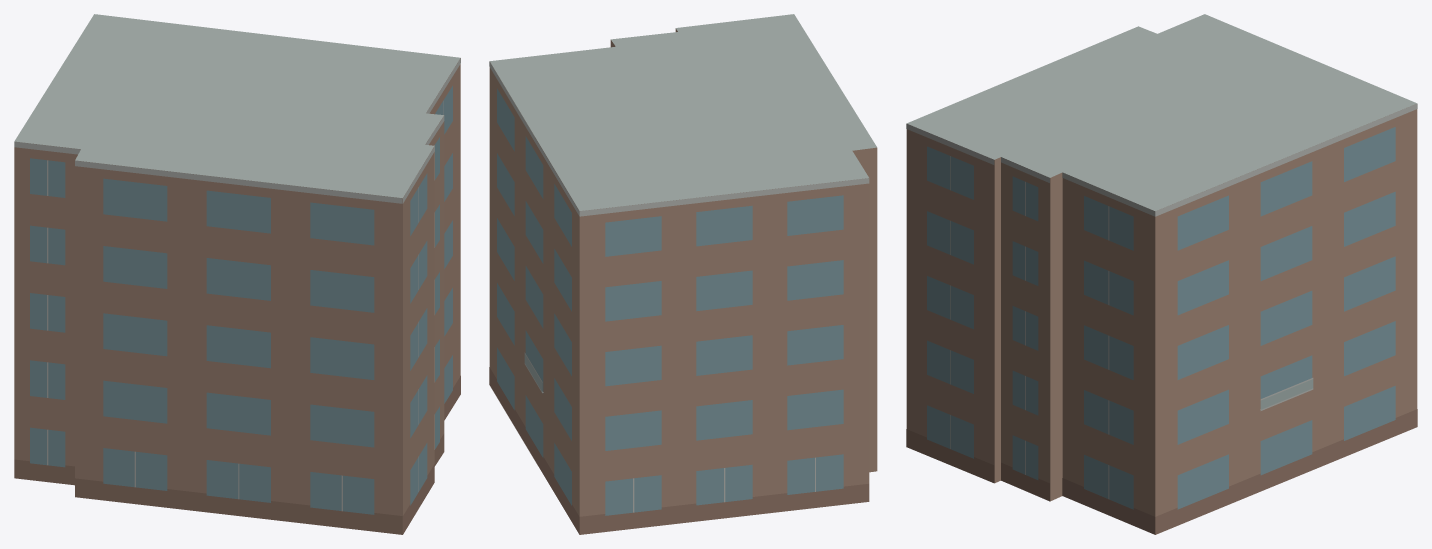
The model's file is survey-upis-32655862.glb.
The picture shows the model from 3 angles, left to right: view 1: azimuth 30°, elevation 25°; view 2: azimuth 150°, elevation 25°; view 3: azimuth 270°, elevation 25°; orthographic projection. The views are drawn at different scales.
Visible parts, largest first — view 1: survey-upis-32655862.tmp; view 2: survey-upis-32655862.tmp; view 3: survey-upis-32655862.tmp.
Part boxes in pixels (x1,y1,x2,y2): survey-upis-32655862.tmp: (14,14,460,534); survey-upis-32655862.tmp: (489,14,877,534); survey-upis-32655862.tmp: (906,14,1417,534).
Bounding box in the file's own units: 18.84 × 14.4 × 20.62.
